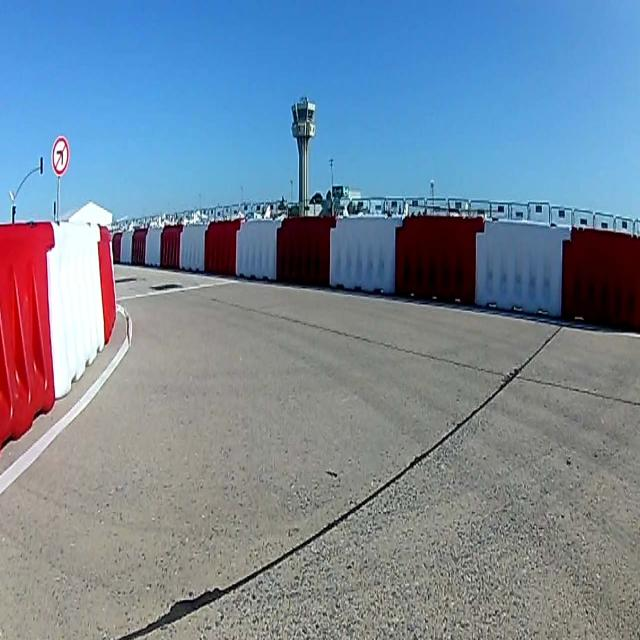soladonulmez: (51, 134, 69, 174)
